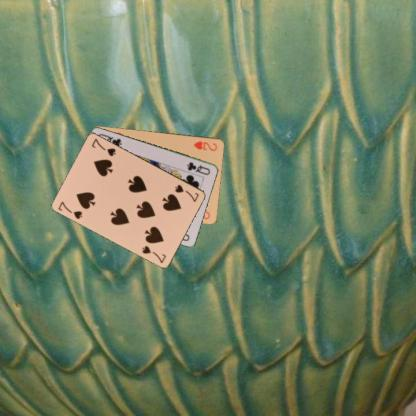2h: (192, 138, 219, 152)
7s: (172, 182, 201, 203), (55, 199, 84, 220)
Qc: (185, 160, 211, 176)
